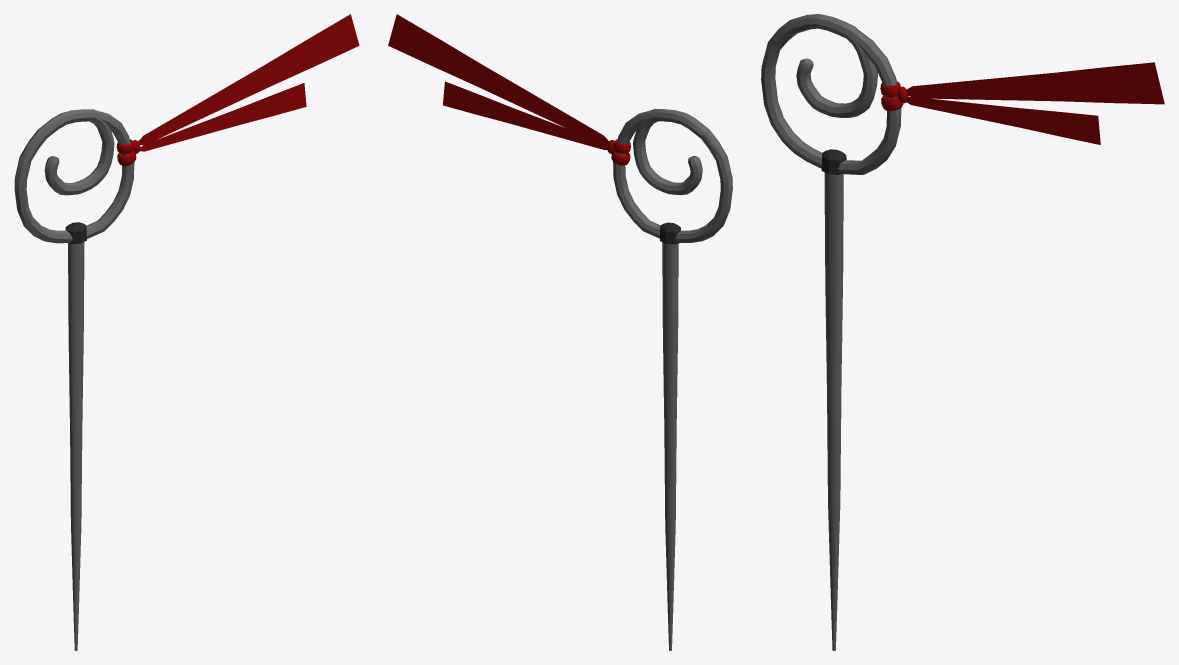
Rendered from cure_dents.FBX.
The picture shows the model from 3 angles, left to right: view 1: azimuth 30°, elevation 25°; view 2: azimuth 150°, elevation 25°; view 3: azimuth 330°, elevation 25°; orthographic projection. The views are drawn at different scales.
Visible parts, largest first — view 1: Cure_dents, Tissu_cure_dents; view 2: Cure_dents, Tissu_cure_dents; view 3: Cure_dents, Tissu_cure_dents.
Part boxes in pixels (x1,y1,x2,y2): Cure_dents: (14, 109, 140, 650); Tissu_cure_dents: (138, 14, 359, 151); Cure_dents: (607, 109, 732, 650); Tissu_cure_dents: (388, 14, 608, 149); Cure_dents: (761, 14, 908, 650); Tissu_cure_dents: (905, 62, 1164, 144).
Bounding box in the file's own units: 200 × 316 × 9.52.
